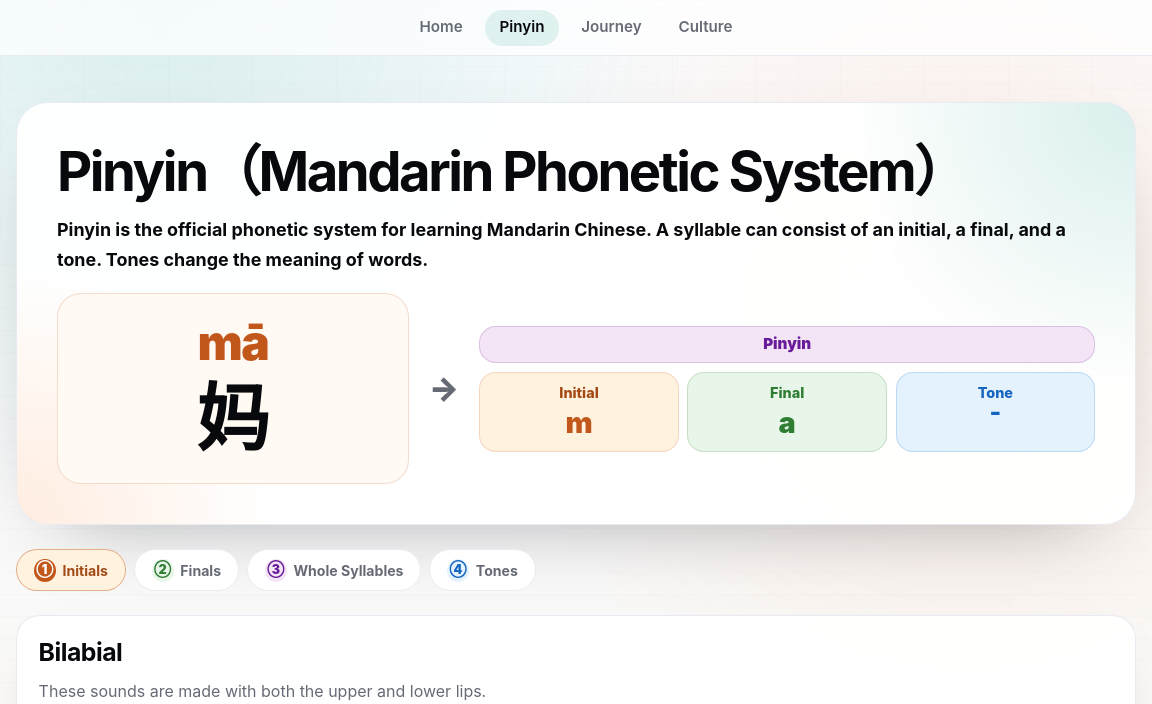
Test: PinyinPage › keeps er and ü cards star-free while marking their side-by-side notes
Step 1. Click the tab "② Finals" → click(186, 570), box x1=134 y1=549 x2=239 y2=591
(page scrolled)
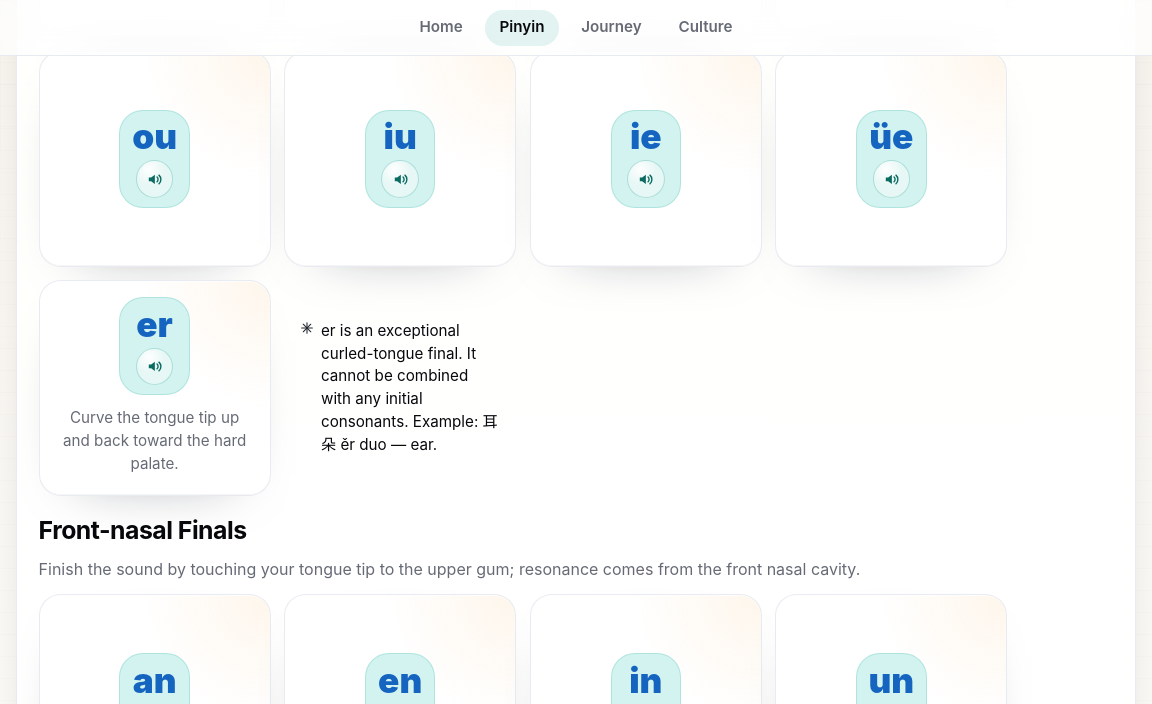
Expected: the text "er" is shown, x1=136 y1=303 x2=173 y2=345
Expected: the icon with test id "pinyin-note-mark" is shown, x1=299 y1=320 x2=315 y2=336
Expected: the text "er is an exceptional curled-tongue final. It cannot be combined with any initial consonants. Example: 耳朵 ěr duo — ear." is shown, x1=321 y1=321 x2=498 y2=454
